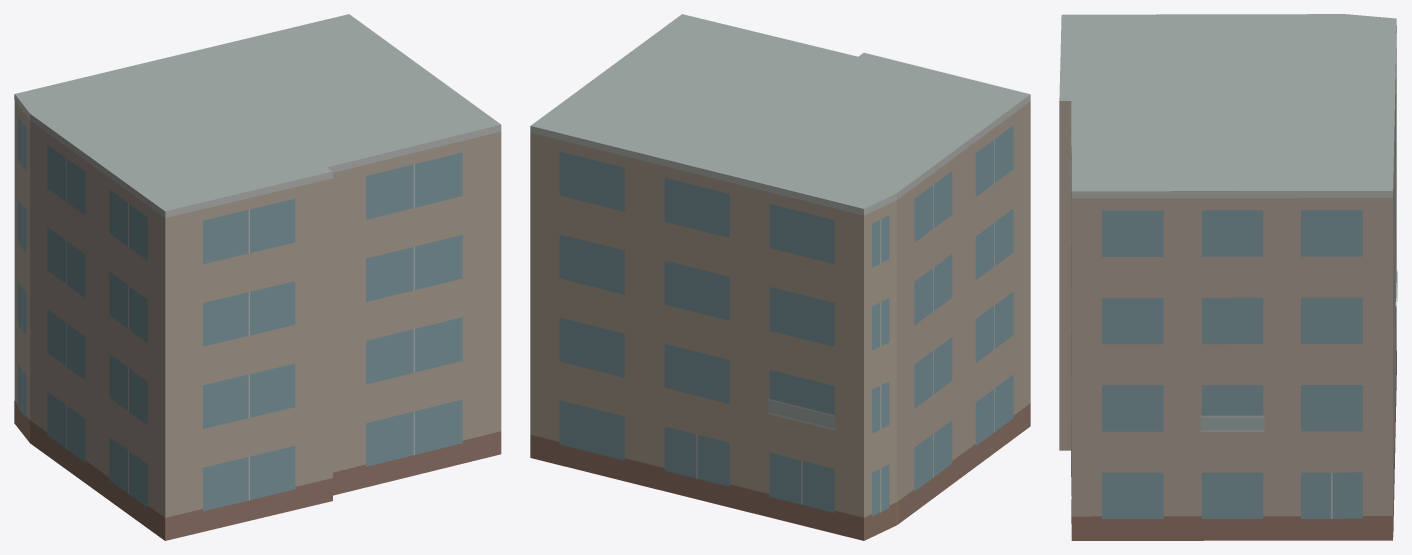
The model's file is survey-upis-32834487.glb.
3 views of the same model, side by side, from view 1: azimuth 30°, elevation 25°; view 2: azimuth 150°, elevation 25°; view 3: azimuth 270°, elevation 25° (orthographic). The views are drawn at different scales.
Visible parts, largest first — view 1: survey-upis-32834487.tmp; view 2: survey-upis-32834487.tmp; view 3: survey-upis-32834487.tmp.
Part boxes in pixels (x1,y1,x2,y2): survey-upis-32834487.tmp: [14, 14, 501, 540]; survey-upis-32834487.tmp: [530, 14, 1030, 540]; survey-upis-32834487.tmp: [1059, 14, 1397, 540].
Bounding box in the file's own units: 12.91 × 11.85 × 10.4.
